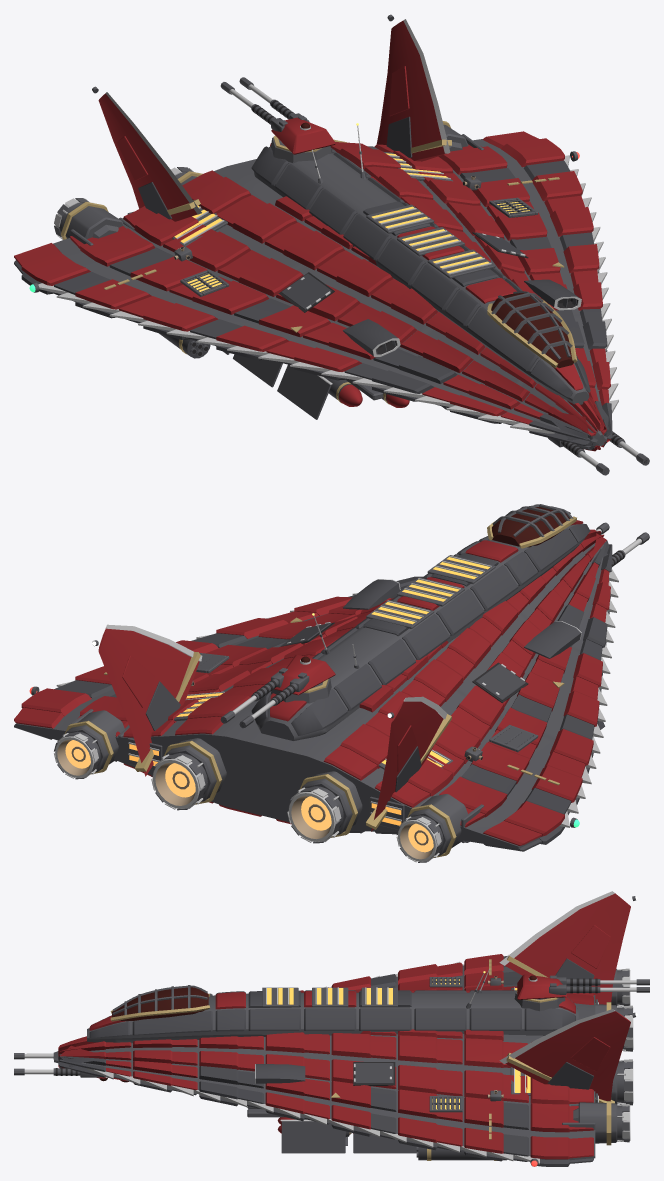
Rendered from enemy_fighter_b.glb.
3 renders of one model, top to bottom at view 1: azimuth 30°, elevation 25°; view 2: azimuth 150°, elevation 25°; view 3: azimuth 270°, elevation 25°, orthographic. The views are drawn at different scales.
Visible parts, largest first — view 1: enemy_fighter_b; view 2: enemy_fighter_b; view 3: enemy_fighter_b.
Part boxes in pixels (x1,y1,x2,y2): enemy_fighter_b: (14, 14, 649, 475); enemy_fighter_b: (14, 504, 649, 862); enemy_fighter_b: (14, 891, 649, 1166).
Size of the model in its own units: 9.3 by 3.26 by 11.52.
